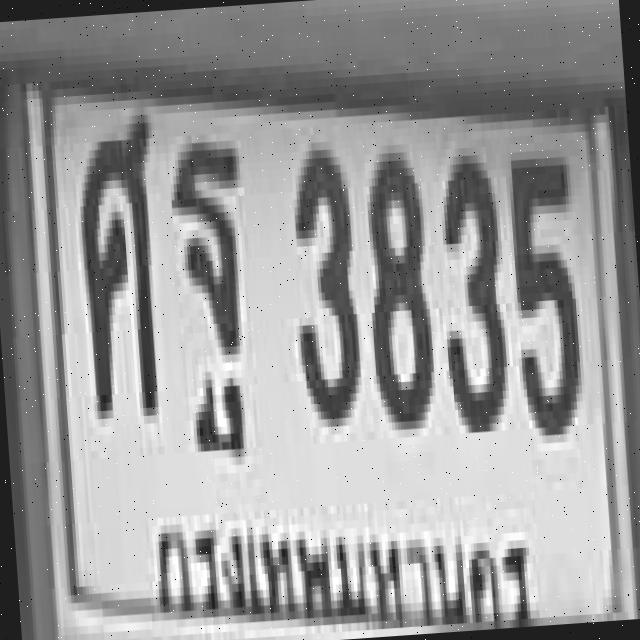25ThorThan: (166, 132, 254, 412)
3: (430, 146, 508, 426), (283, 140, 360, 420)
47SorSala: (70, 107, 164, 411)
5: (504, 148, 584, 428)
8: (356, 143, 434, 423)
Bangkok: (143, 476, 542, 640)
